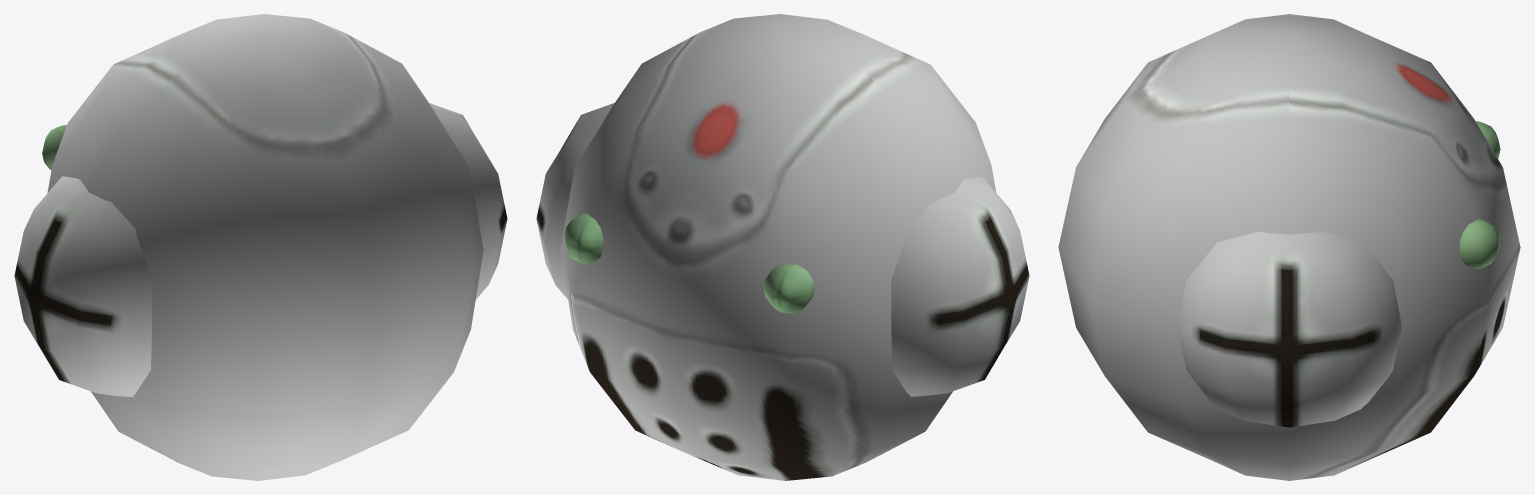
File: icon11.ico.obj
3 renders of one model, left to right at view 1: azimuth 30°, elevation 25°; view 2: azimuth 150°, elevation 25°; view 3: azimuth 270°, elevation 25°, orthographic.
Size of the model in its own units: 3.42 by 3 by 3.
Materials: 1 (1 with a texture image).
